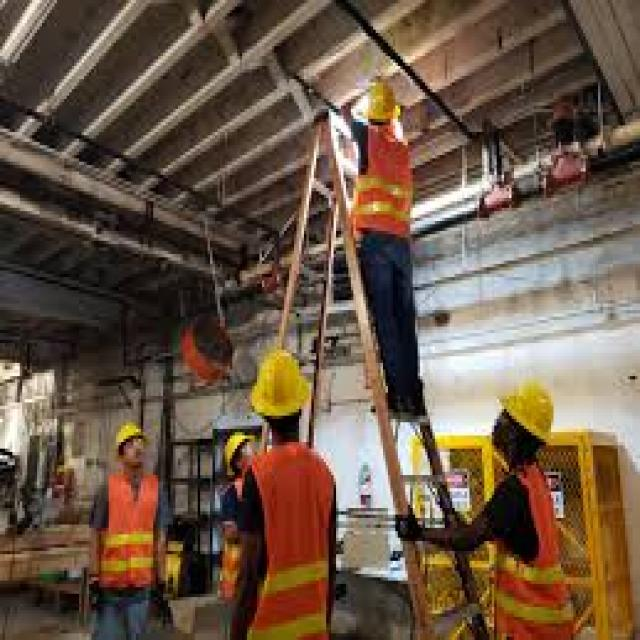Reflective-Jacket: (242, 445, 344, 640), (477, 462, 581, 640), (91, 465, 166, 604), (346, 125, 422, 248)
Safety-Helmet: (487, 366, 566, 455), (244, 340, 318, 429), (351, 76, 405, 132), (109, 412, 153, 458), (217, 426, 257, 472)
